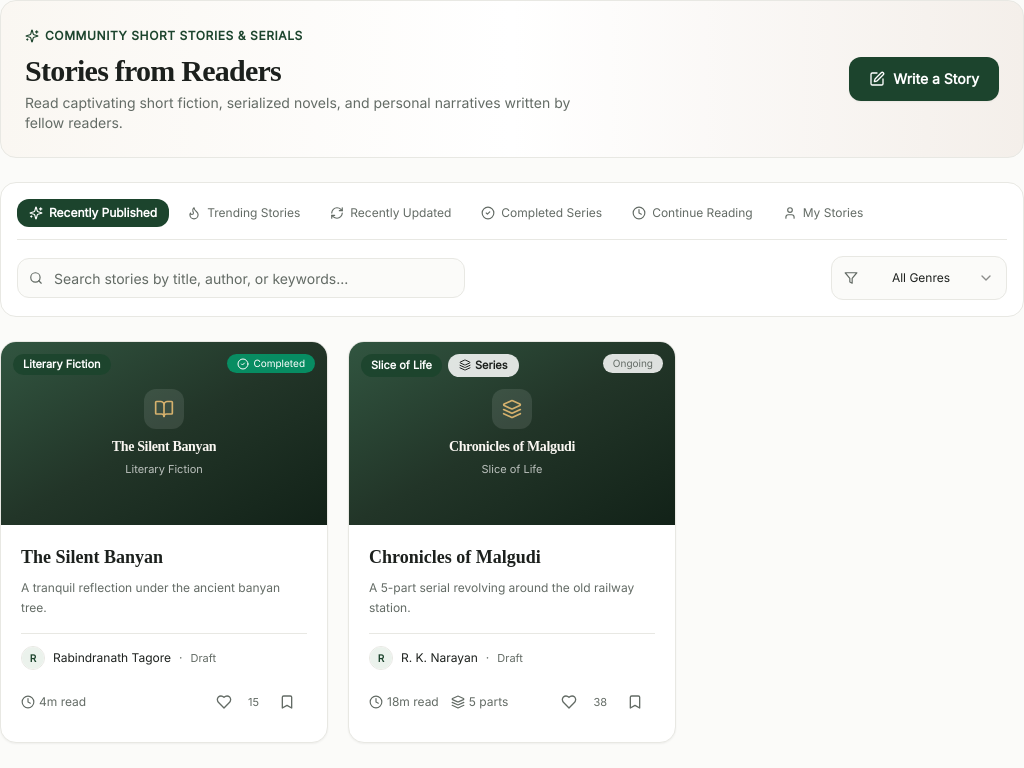
StoriesFeed Component › opens story creation dialog when clicking Write a Story
Click the button "Write a Story": (924, 79) 849,57 -> 999,101
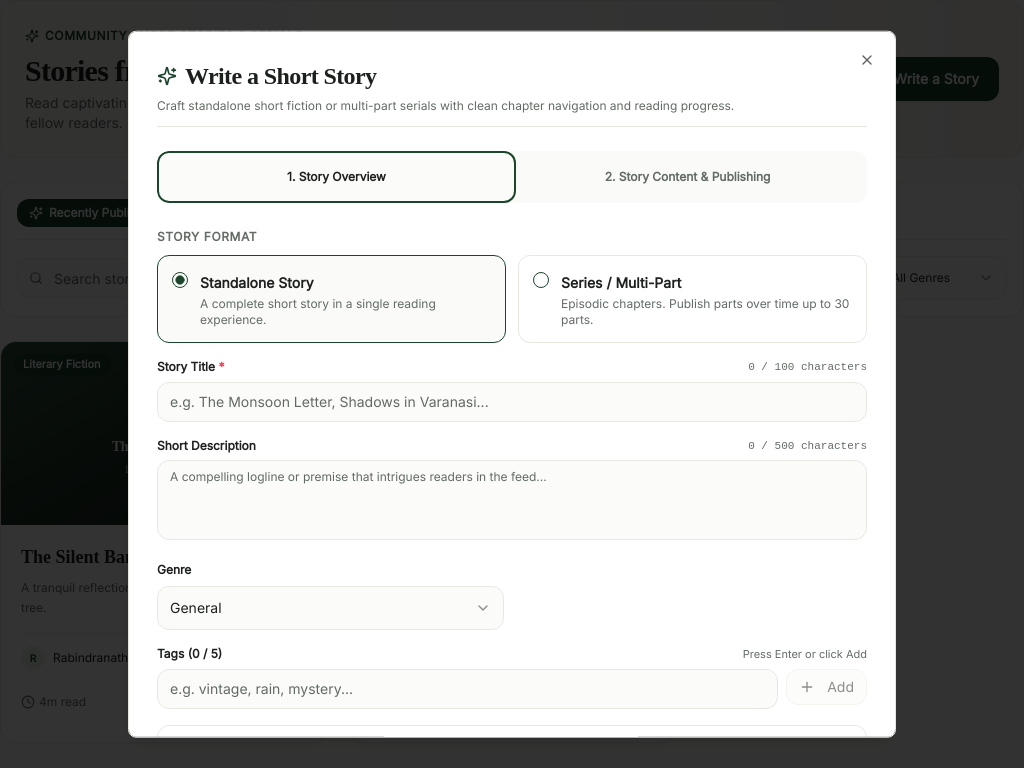
Now the dialog is shown
Now the heading "Write a Short Story" is shown, box 157,63 -> 376,89
